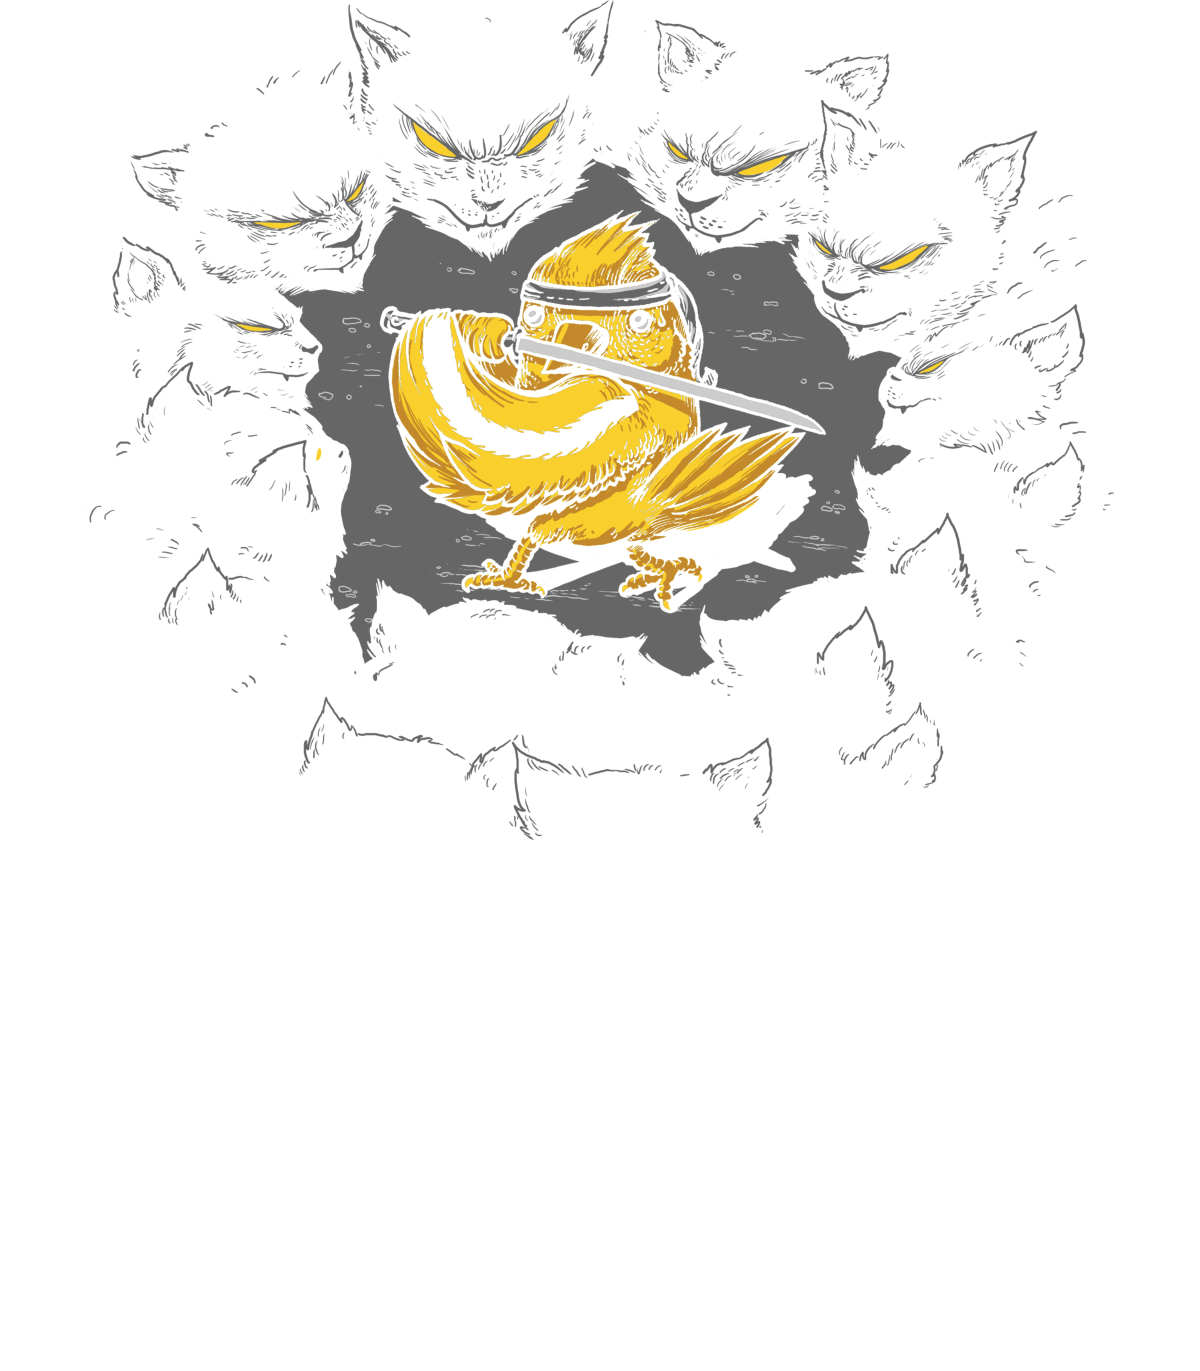design: (72, 1, 1128, 863)
